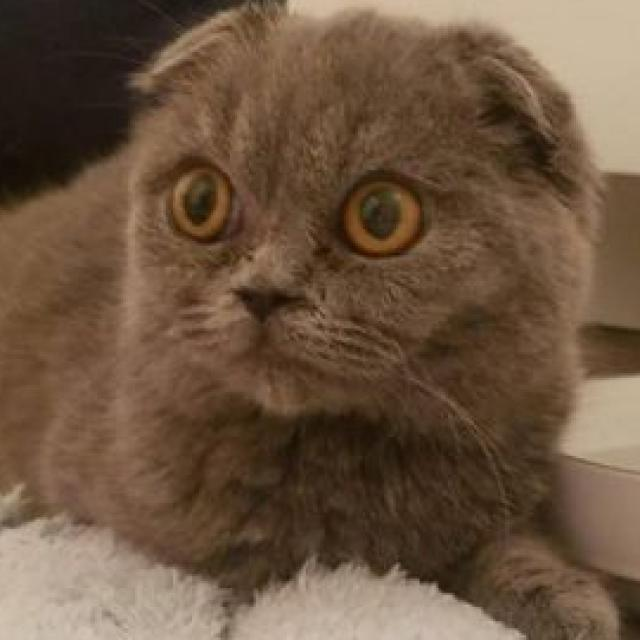Scottish Fold: (0, 0, 628, 640)
